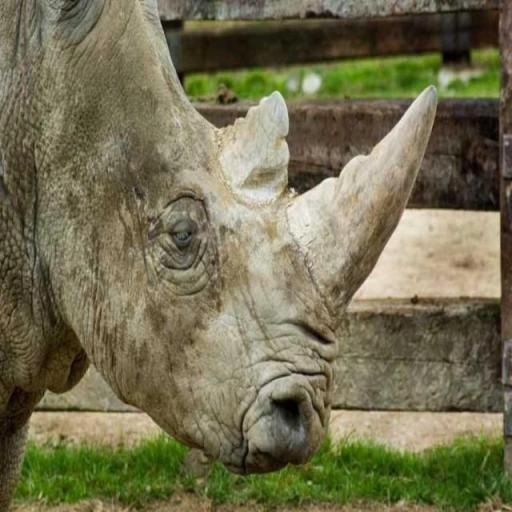Rhino: (0, 0, 438, 510)
